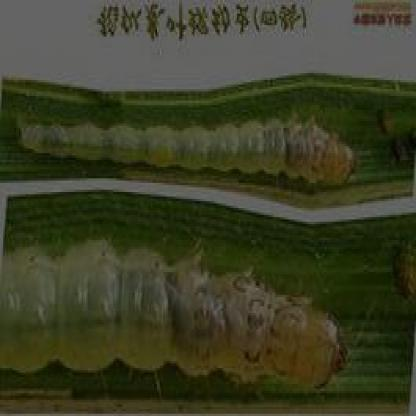leaf-folder: (19, 231, 354, 412), (7, 83, 374, 207)
